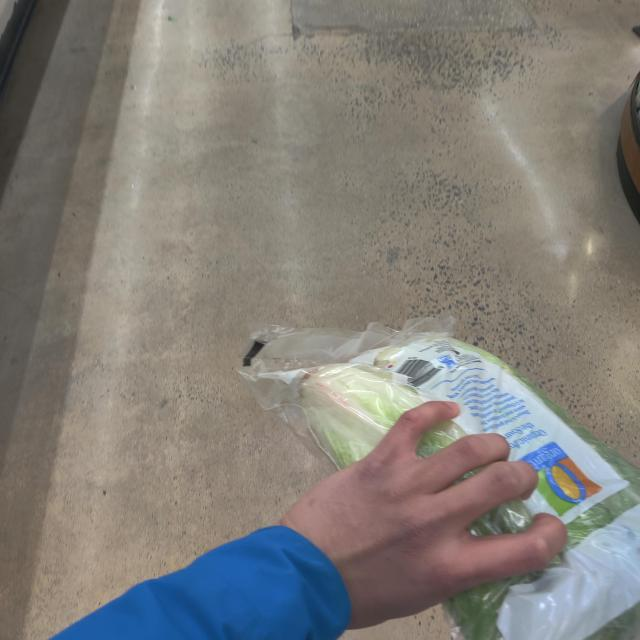Lettuce: (240, 322, 640, 640)
